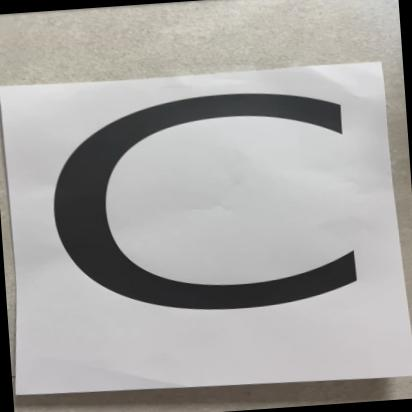seat: (0, 46, 412, 408)
